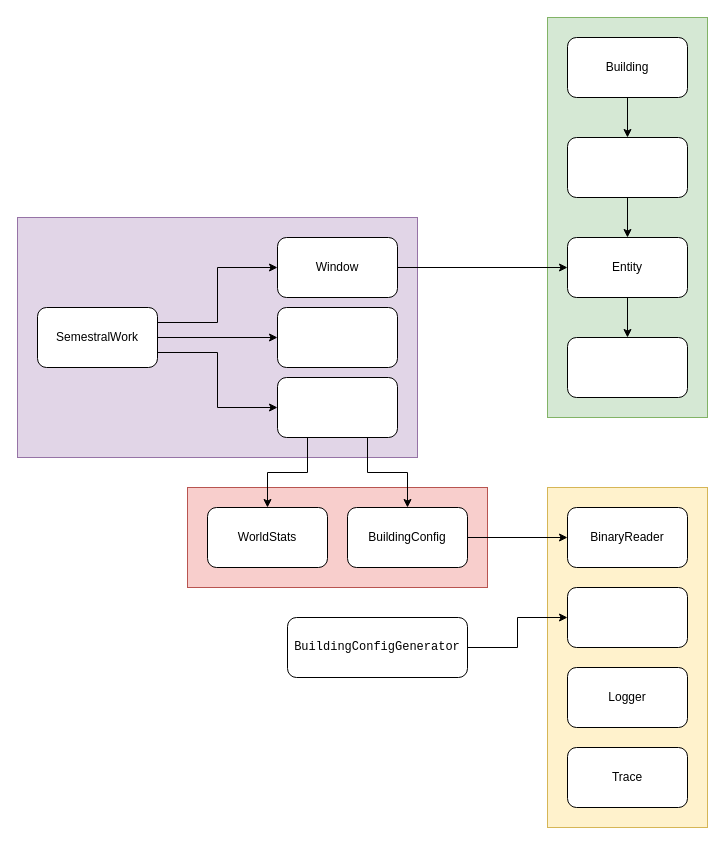
The diagram is 725 pixels wide and 845 high, and some of its shapes have lost their labels. The centre of each missing label's shape, as x and y in pixels:
BinaryWriter: [627,617]
GameLogic: [337,407]
HasPosition: [627,367]
Rectangle: [627,167]
Renderer: [337,337]
